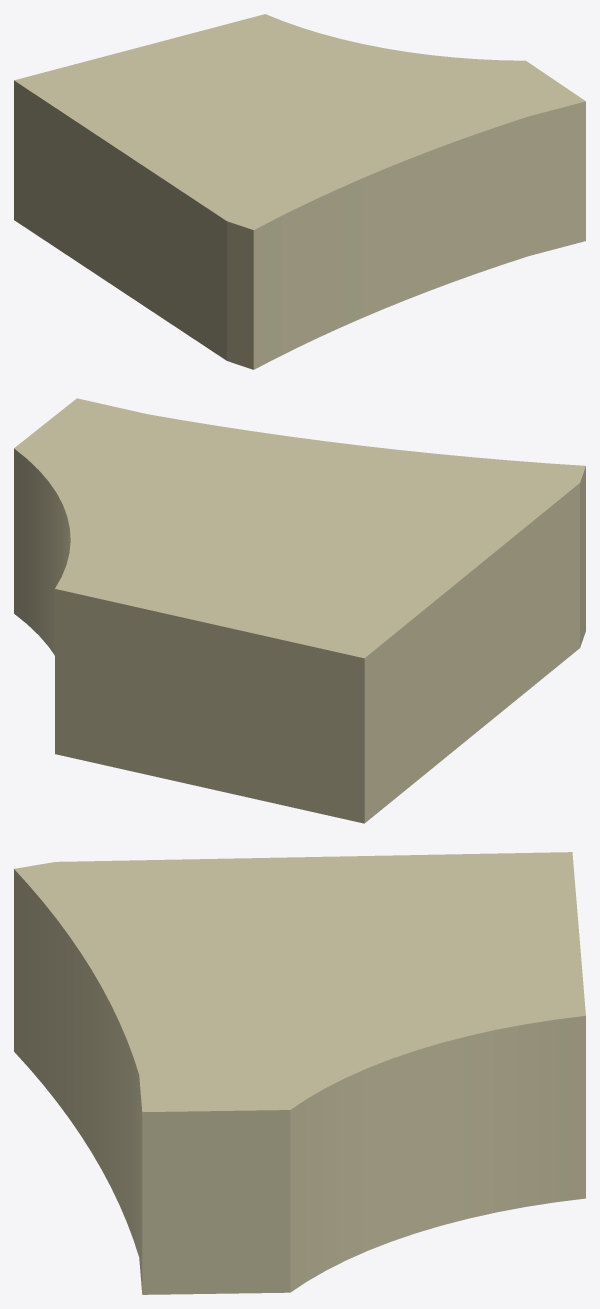
The model's file is SM_WhiteModel_9.FBX.
3 views of the same model, one above another, from view 1: azimuth 30°, elevation 25°; view 2: azimuth 150°, elevation 25°; view 3: azimuth 270°, elevation 25° (orthographic). The views are drawn at different scales.
Visible parts, largest first — view 1: SM_WhiteModel_9; view 2: SM_WhiteModel_9; view 3: SM_WhiteModel_9.
Boxes of the visible parts, bbox=[...] form: SM_WhiteModel_9: bbox=[14, 14, 585, 369]; SM_WhiteModel_9: bbox=[14, 398, 585, 823]; SM_WhiteModel_9: bbox=[14, 852, 585, 1294].
Bounding box in the file's own units: 4121 × 3830 × 1350.
